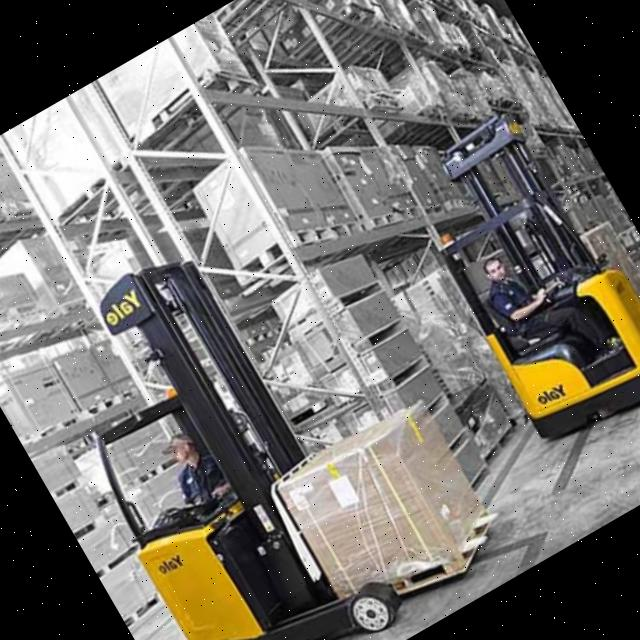Person: (474, 226, 620, 390), (149, 421, 236, 517)
